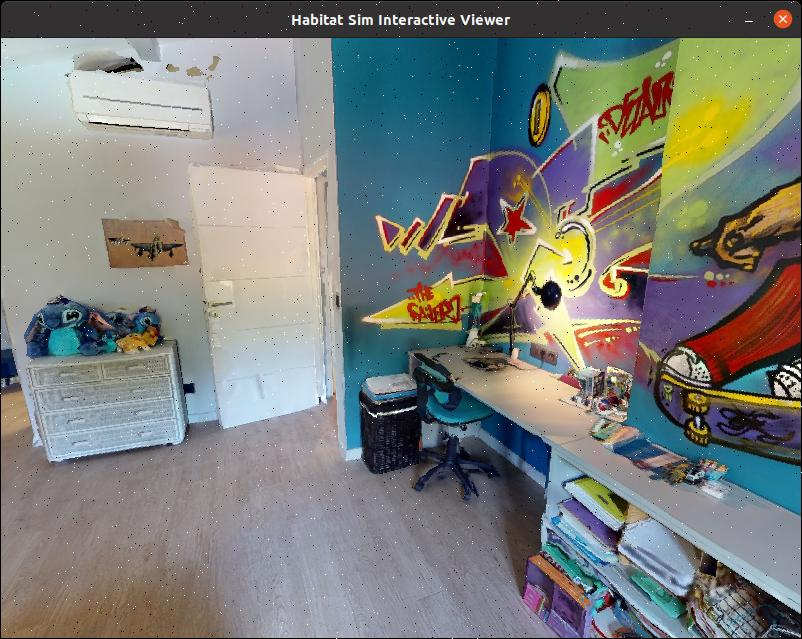door: (195, 173, 333, 416)
